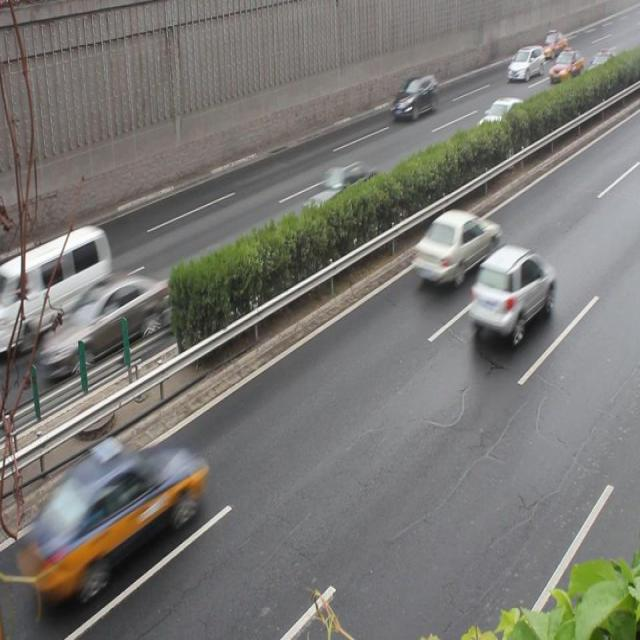car: (22, 440, 205, 586), (43, 273, 181, 368), (467, 244, 555, 331), (412, 208, 499, 284), (299, 166, 382, 236), (472, 96, 531, 149), (391, 73, 438, 125)
truck: (0, 226, 114, 342)
